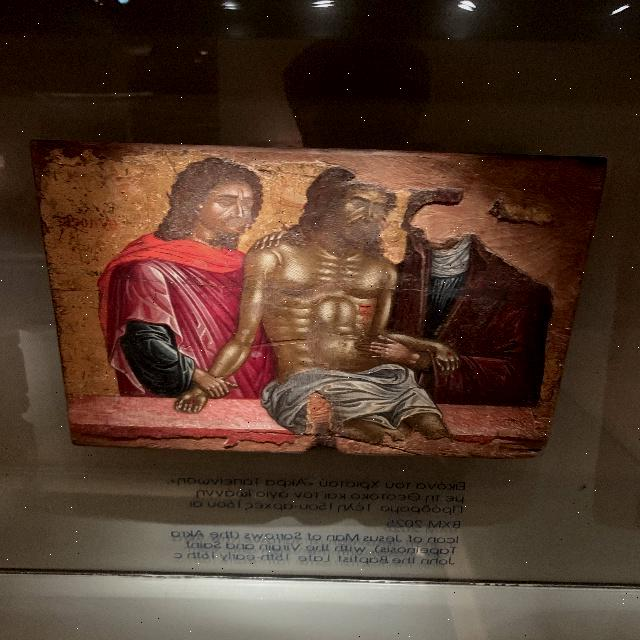christ_crucifixion: (263, 168, 410, 430)
saint: (386, 186, 560, 397), (111, 163, 243, 397)
